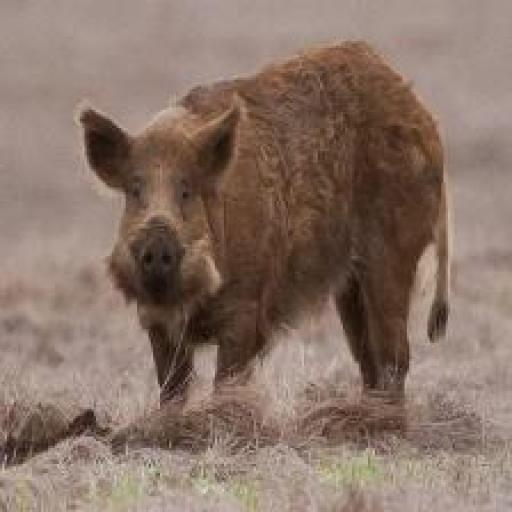Pig: (76, 41, 449, 409)
